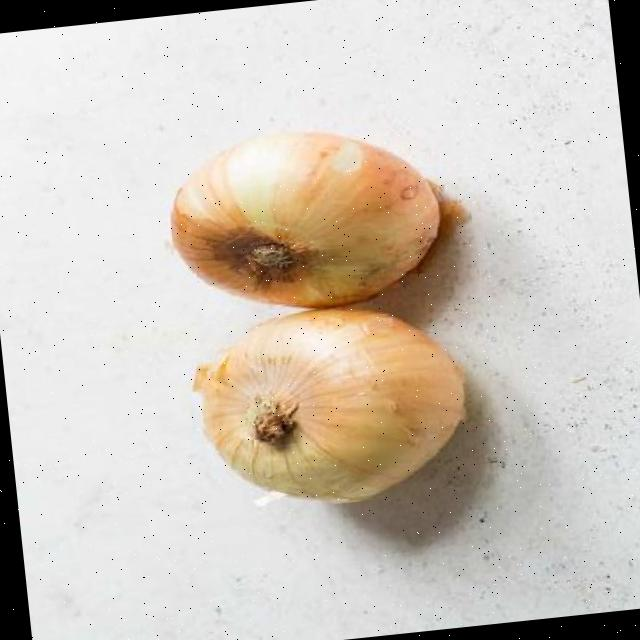Onion: (192, 306, 465, 501), (171, 130, 441, 306)
